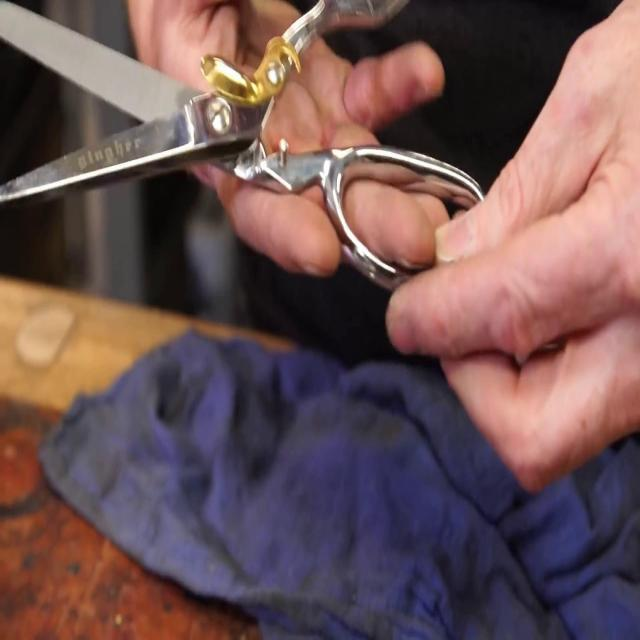scissor: (0, 0, 486, 288)
